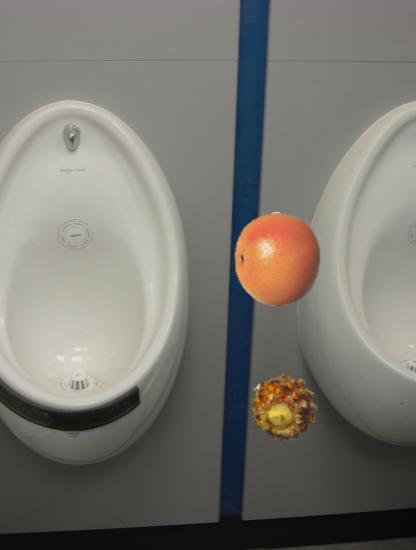Grapefruit: (231, 212, 326, 307)
Pineapple: (250, 371, 320, 441)
